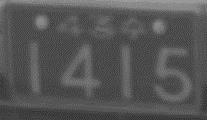1: (109, 43, 145, 97), (18, 42, 51, 95)
3: (87, 12, 116, 40)
4: (59, 42, 101, 98), (56, 14, 86, 38)
5: (153, 46, 193, 103)
수: (120, 15, 145, 39)
